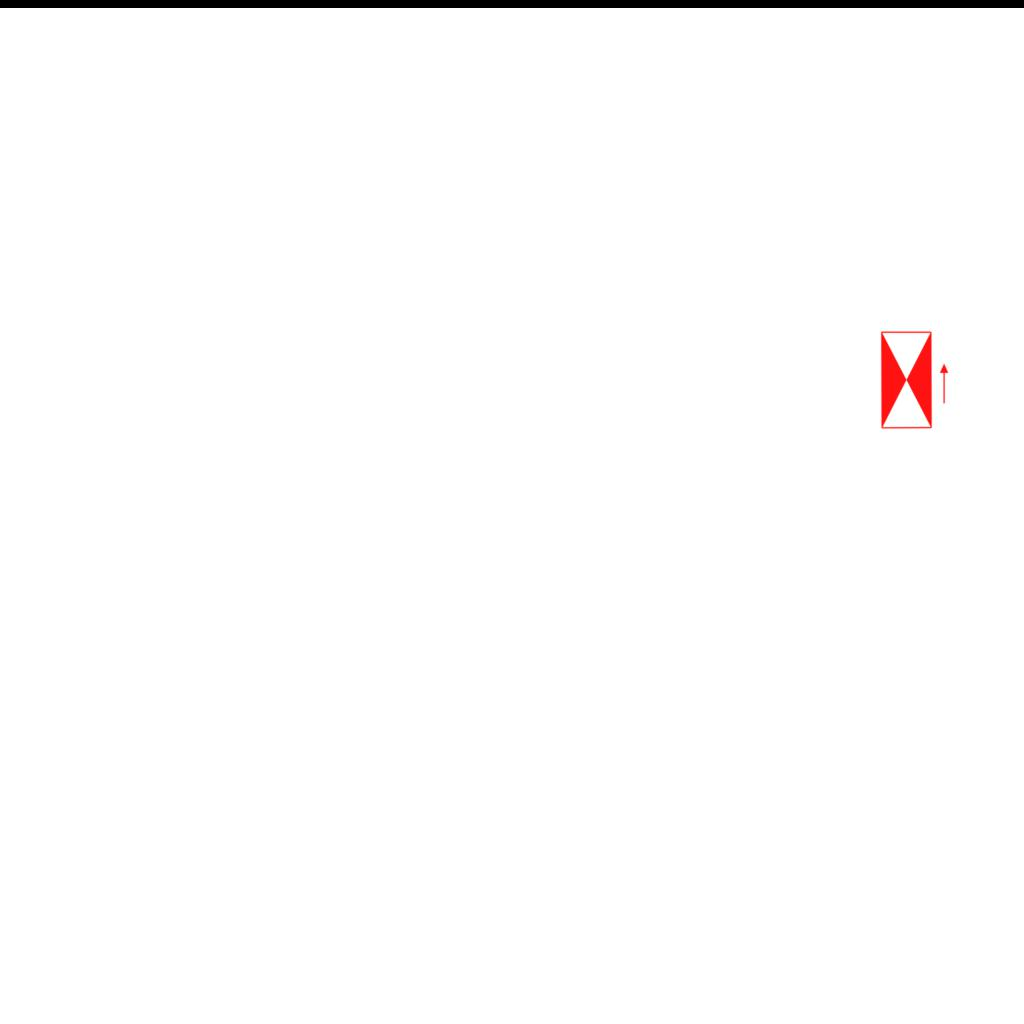Fluchtwegpiktogramm: (878, 328, 951, 432)
